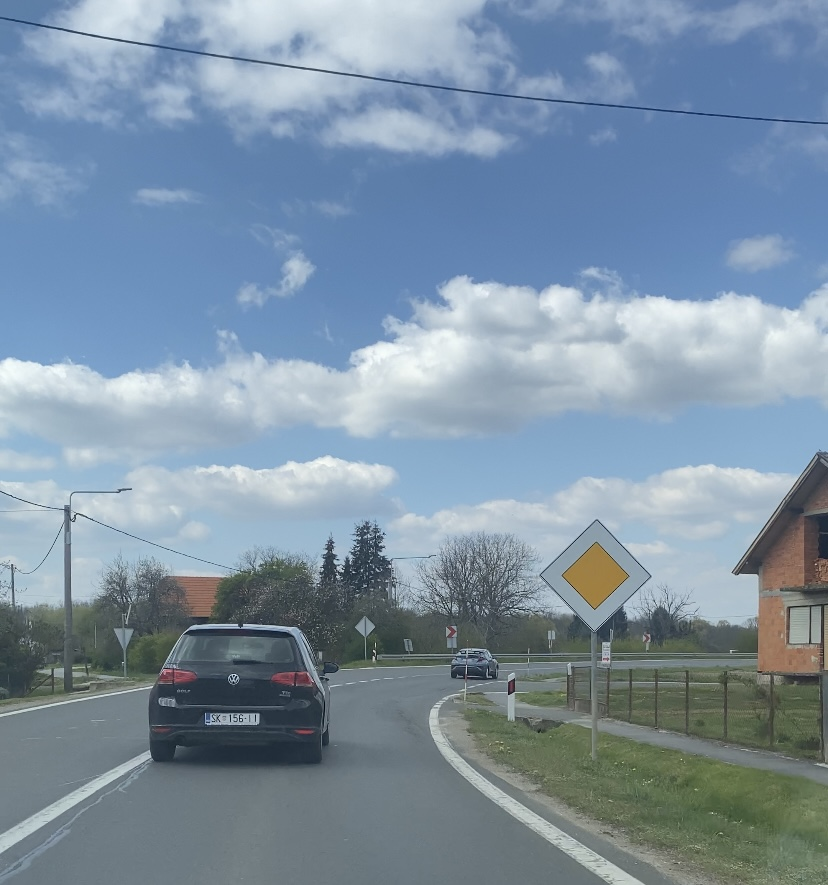Cesta s prednošću prolaska: (539, 519, 652, 633)
